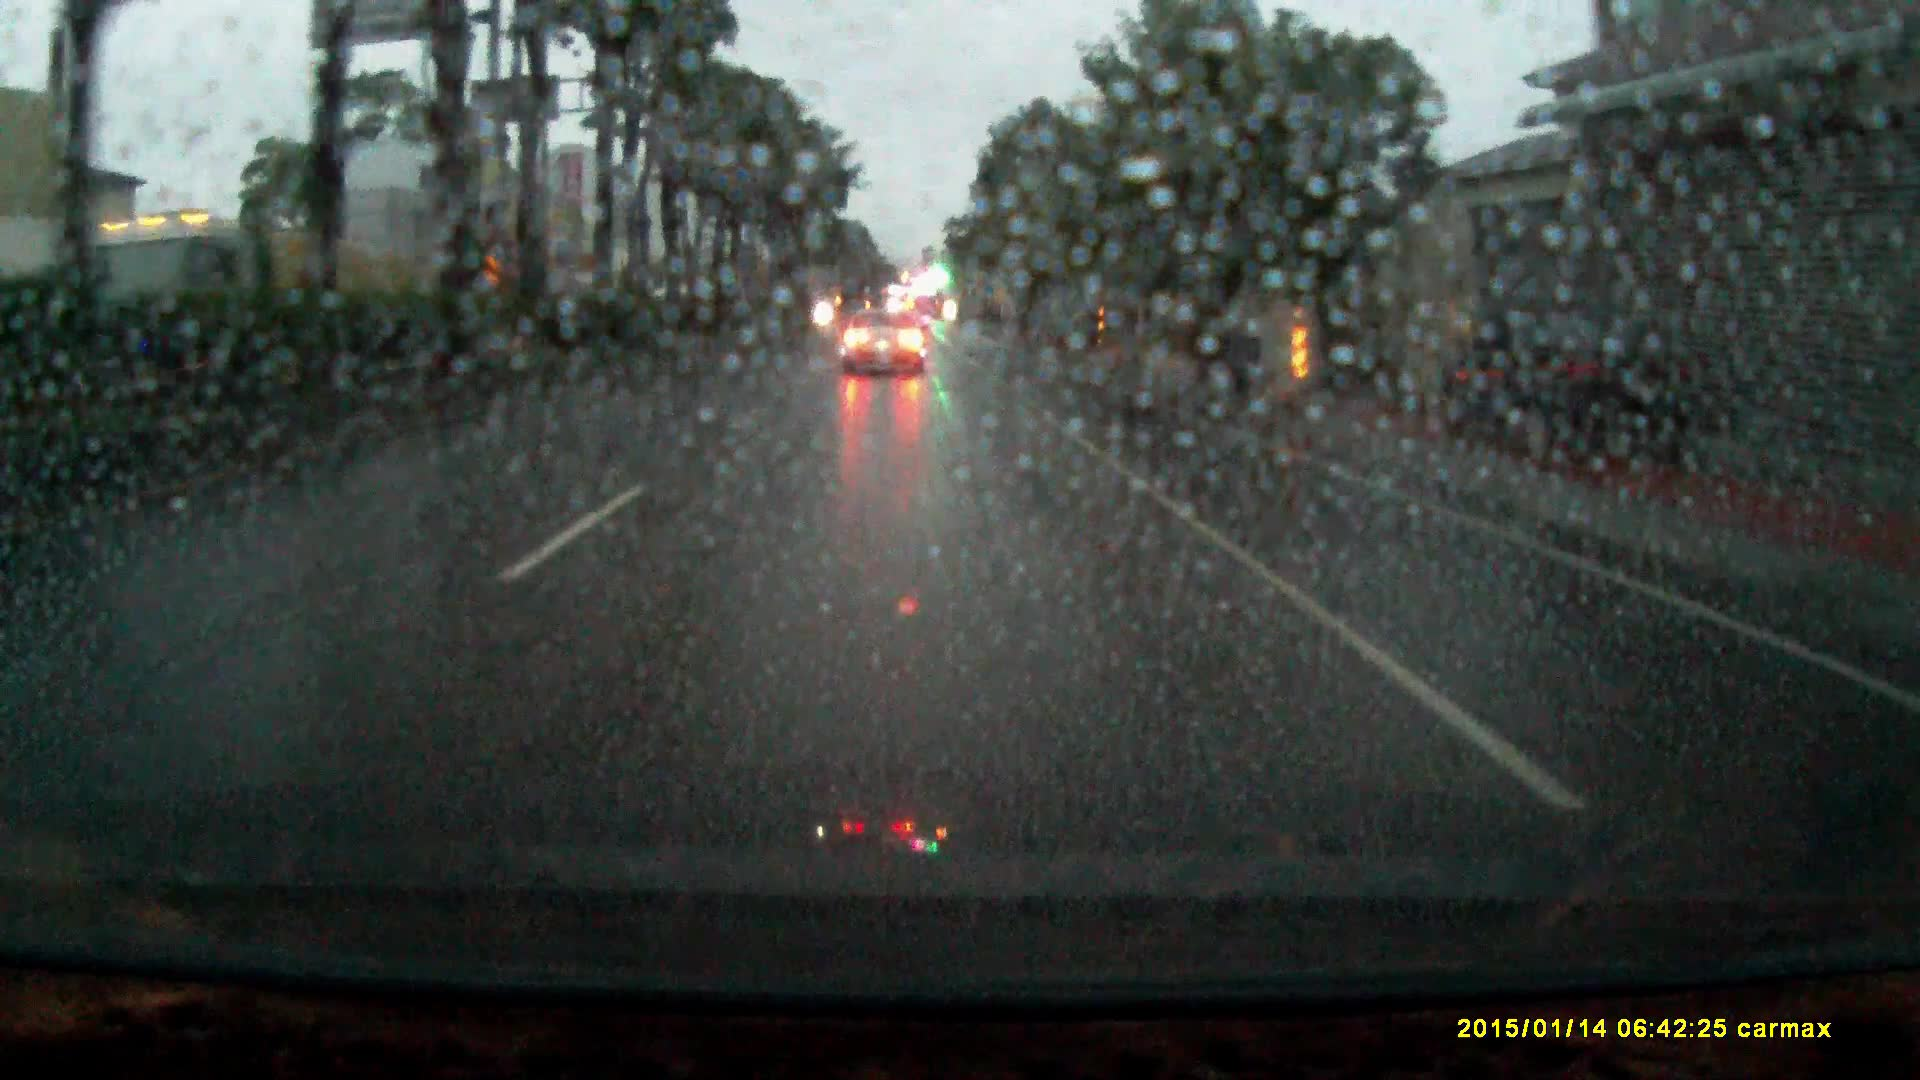vehicle: (76, 212, 410, 371), (1433, 294, 1720, 462), (841, 298, 928, 371)
